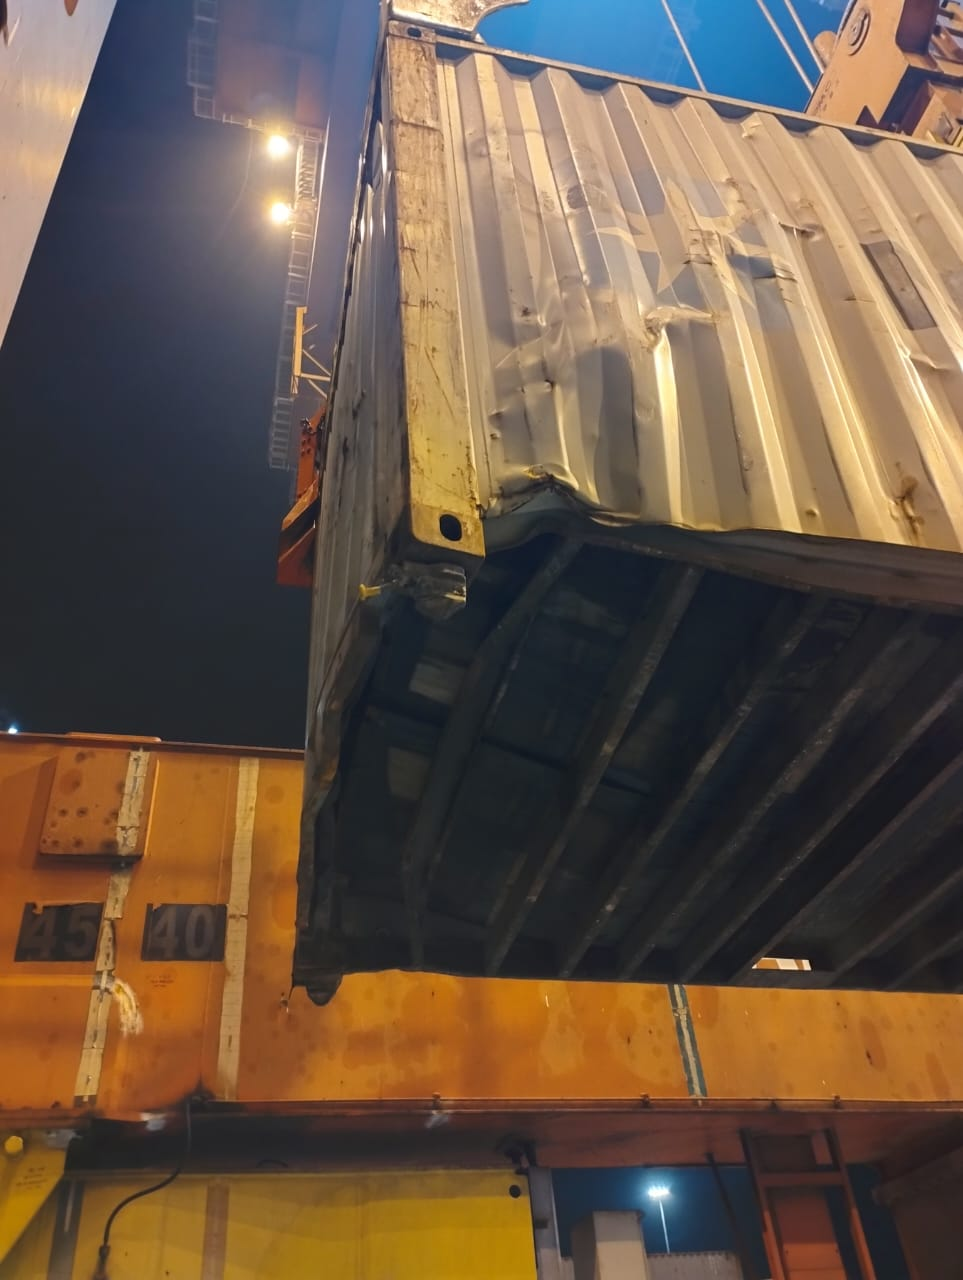bulged: (456, 144, 761, 473), (810, 203, 962, 431)
